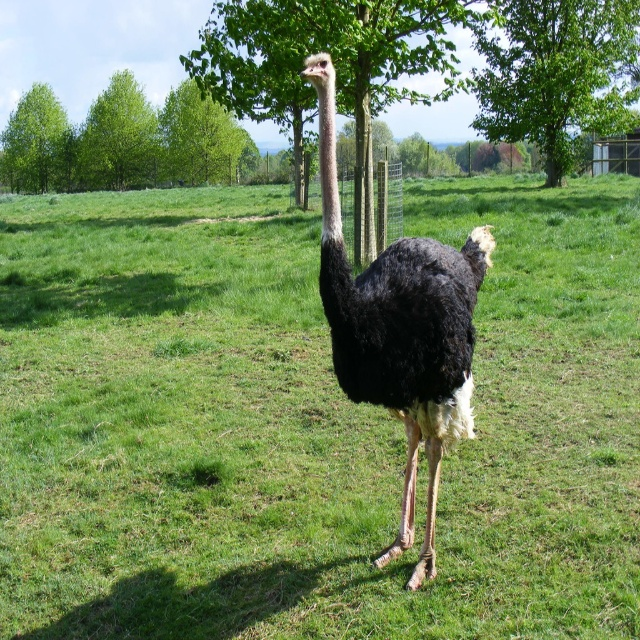Ostrich: (292, 47, 496, 596)
